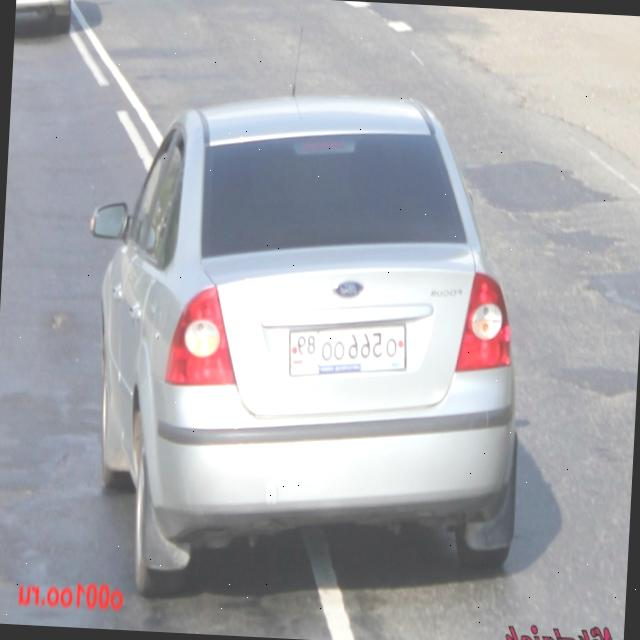number-plates: (288, 314, 412, 390)
